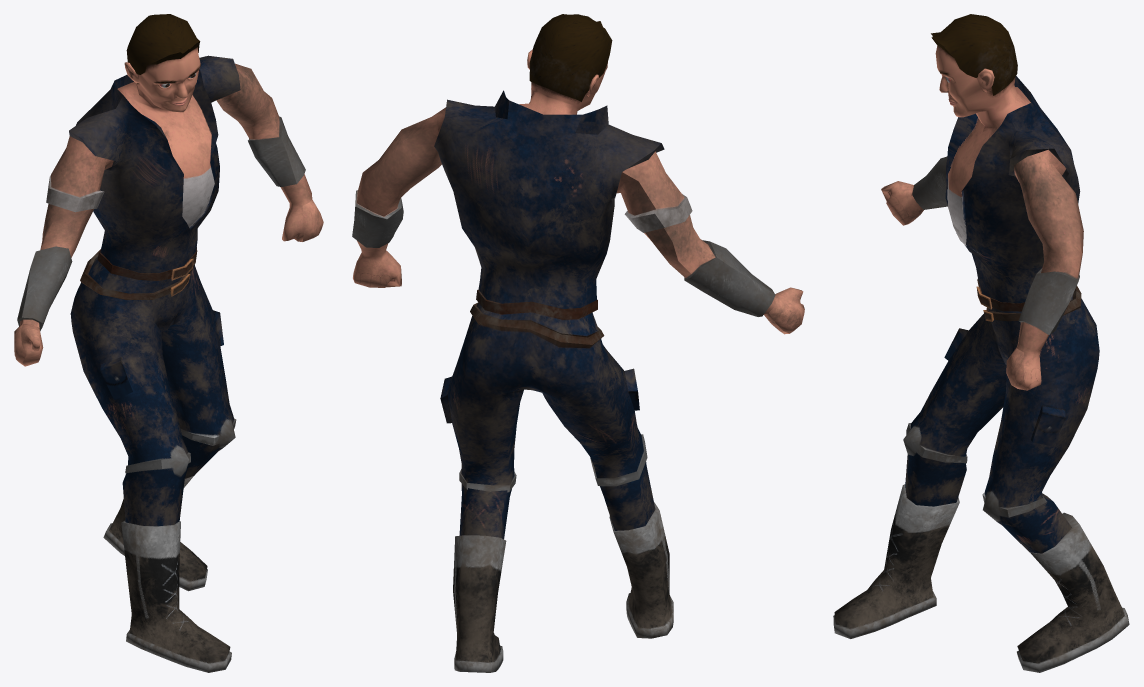
File: Anim_interruptor_jugador.0022.obj
3 views of the same model, side by side, from view 1: azimuth 30°, elevation 25°; view 2: azimuth 150°, elevation 25°; view 3: azimuth 270°, elevation 25° (orthographic). The views are drawn at different scales.
Parts seen in each view (by area): view 1: polySurface1; view 2: polySurface1; view 3: polySurface1.
Boxes of the visible parts, <box> form: polySurface1: <box>14,14,323,672</box>; polySurface1: <box>352,14,804,672</box>; polySurface1: <box>833,14,1129,672</box>.
Bounding box in the file's own units: 5.87 × 9.28 × 4.02.
